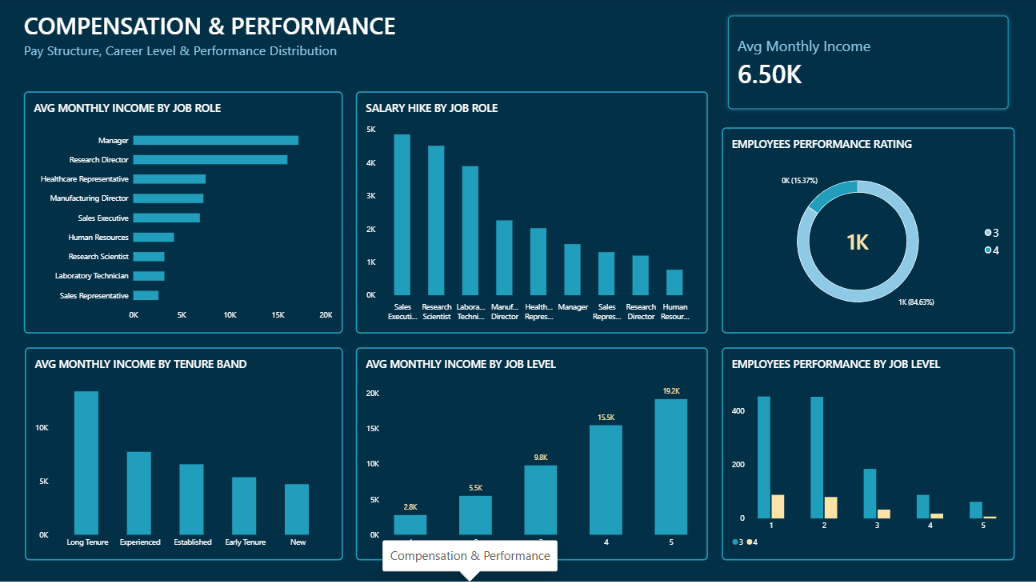

The dashboard page shown, as its layout file describes it:
{"tool":"powerbi","page":{"name":"Compensation & Performance","canvas":[1920,1080],"ordinal":2},"visuals":[{"type":"cardVisual","fields":{"Data":["WA_Fn-UseC_-HR-Employee-Attrition.Avg Monthly Income"]},"box":[1334.4,20.2,539.3,195.1],"z":0},{"type":"clusteredBarChart","title":"AVG MONTHLY INCOME BY JOB ROLE","fields":{"Category":["WA_Fn-UseC_-HR-Employee-Attrition.JobRole"],"Y":["WA_Fn-UseC_-HR-Employee-Attrition.Avg Monthly Income"]},"box":[49.7,171.2,587.1,445.4],"z":1000},{"type":"donutChart","title":"EMPLOYEES PERFORMANCE RATING","fields":{"Category":["WA_Fn-UseC_-HR-Employee-Attrition.PerformanceRating"],"Y":["WA_Fn-UseC_-HR-Employee-Attrition.Total Employees"]},"box":[1334.4,237.4,539.3,379.1],"z":2000},{"type":"clusteredColumnChart","title":"AVG MONTHLY INCOME BY JOB LEVEL","fields":{"Category":["WA_Fn-UseC_-HR-Employee-Attrition.JobLevel"],"Y":["WA_Fn-UseC_-HR-Employee-Attrition.Avg Monthly Income"]},"box":[660.7,642.3,647.9,392],"z":3000},{"type":"clusteredColumnChart","title":"AVG MONTHLY INCOME BY TENURE BAND","fields":{"Category":["WA_Fn-UseC_-HR-Employee-Attrition.Tenure Band"],"Y":["WA_Fn-UseC_-HR-Employee-Attrition.Avg Monthly Income"]},"box":[51.5,642.3,585.3,392],"z":4000},{"type":"clusteredColumnChart","title":"EMPLOYEES PERFORMANCE BY JOB LEVEL","fields":{"Category":["WA_Fn-UseC_-HR-Employee-Attrition.JobLevel"],"Series":["WA_Fn-UseC_-HR-Employee-Attrition.PerformanceRating"],"Y":["WA_Fn-UseC_-HR-Employee-Attrition.Total Employees"]},"box":[1334.4,642.3,539.3,392],"z":5000},{"type":"clusteredColumnChart","title":"SALARY HIKE BY JOB ROLE","fields":{"Category":["WA_Fn-UseC_-HR-Employee-Attrition.JobRole"],"Y":["Sum(WA_Fn-UseC_-HR-Employee-Attrition.PercentSalaryHike)"]},"box":[660.7,171.2,647.9,445.4],"z":6000},{"type":"textbox","box":[49.7,20.2,911,71.8],"z":11000},{"type":"textbox","box":[49.7,79.1,721.5,60.7],"z":12000}]}

Visuals, with their boxes in screenshot pixels (x1, y1, x2, y2), scaled from the page's 1920x1080 canvas onto the 1036x582 screenshot:
cardVisual - WA_Fn-UseC_-HR-Employee-Attrition.Avg Monthly Income: (left=720, top=11, right=1011, bottom=116)
"AVG MONTHLY INCOME BY JOB ROLE" clusteredBarChart: (left=27, top=92, right=344, bottom=332)
"EMPLOYEES PERFORMANCE RATING" donutChart: (left=720, top=128, right=1011, bottom=332)
"AVG MONTHLY INCOME BY JOB LEVEL" clusteredColumnChart: (left=357, top=346, right=706, bottom=557)
"AVG MONTHLY INCOME BY TENURE BAND" clusteredColumnChart: (left=28, top=346, right=344, bottom=557)
"EMPLOYEES PERFORMANCE BY JOB LEVEL" clusteredColumnChart: (left=720, top=346, right=1011, bottom=557)
"SALARY HIKE BY JOB ROLE" clusteredColumnChart: (left=357, top=92, right=706, bottom=332)
textbox: (left=27, top=11, right=518, bottom=50)
textbox: (left=27, top=43, right=416, bottom=75)
